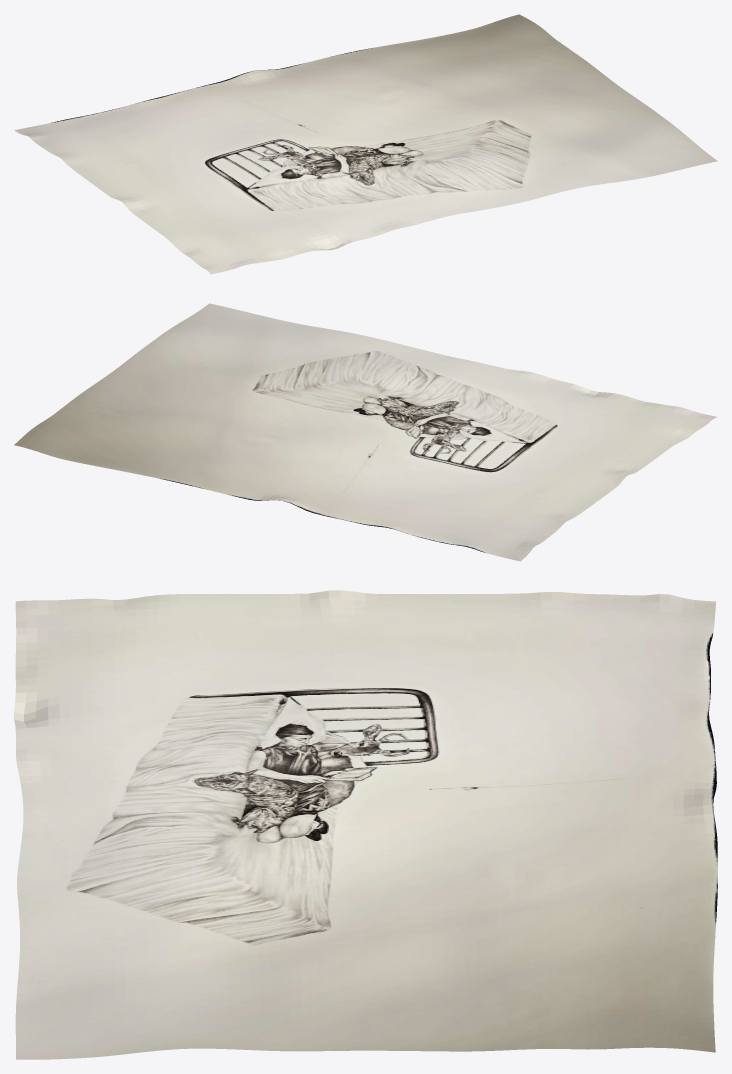
The model's file is deeranddog.glb.
The picture shows the model from 3 angles, top to bottom: view 1: azimuth 30°, elevation 25°; view 2: azimuth 150°, elevation 25°; view 3: azimuth 270°, elevation 25°; orthographic projection. The views are drawn at different scales.
Visible parts, largest first — view 1: Plane; view 2: Plane; view 3: Plane.
Boxes of the visible parts, <box> form: Plane: <box>14,14,717,274</box>; Plane: <box>14,303,717,561</box>; Plane: <box>14,590,717,1059</box>.
Size of the model in its own units: 3.74 by 0.1197 by 2.53.
1 material, 1 textured.
